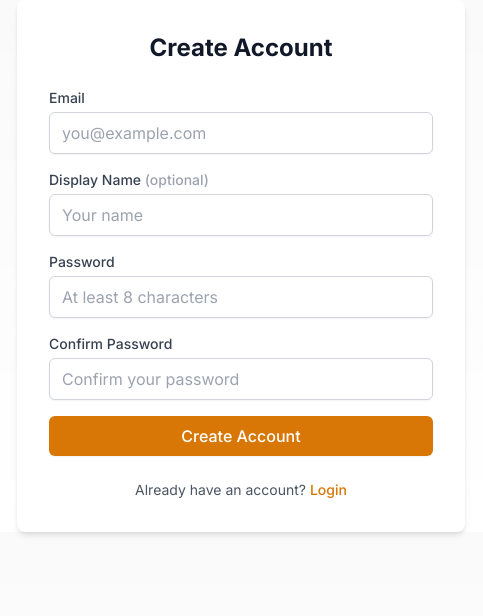
Test: RegisterPage › Validation › shows error when passwords do not match
This screenshot has width=483, height=616.
Type "new@example.com" into the field labelled "Email". click: coordinates (241, 133)
box: [49, 112, 433, 154]
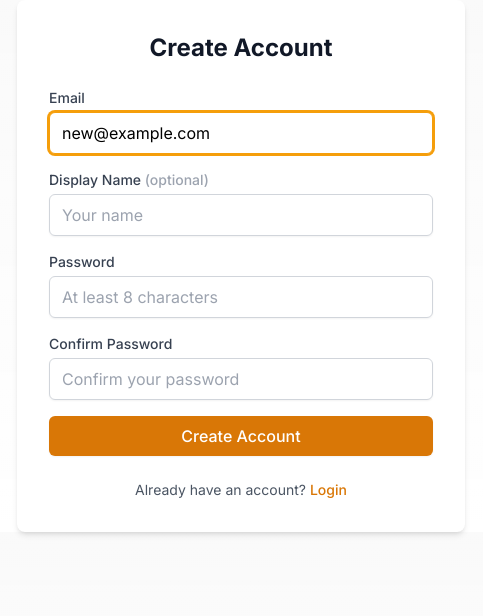
Type "password123" into the password field labelled "Password". click: coordinates (241, 297)
box: [49, 276, 433, 318]
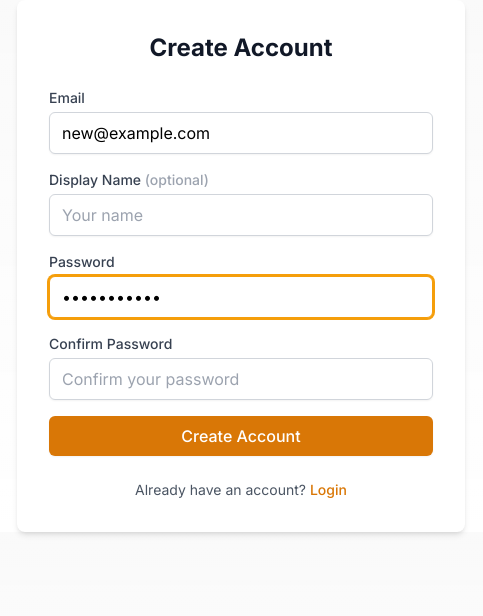
Type "differentpassword" into the password field labelled "Confirm Password". click: coordinates (241, 379)
box: [49, 358, 433, 400]
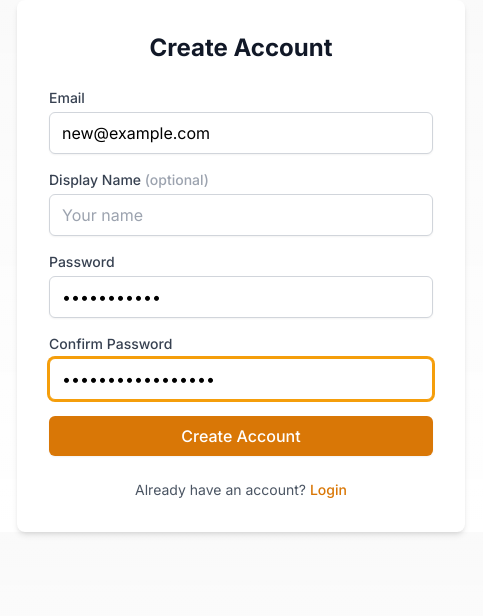
Click the button "Create Account". click: coordinates (241, 436)
box: [49, 416, 433, 456]
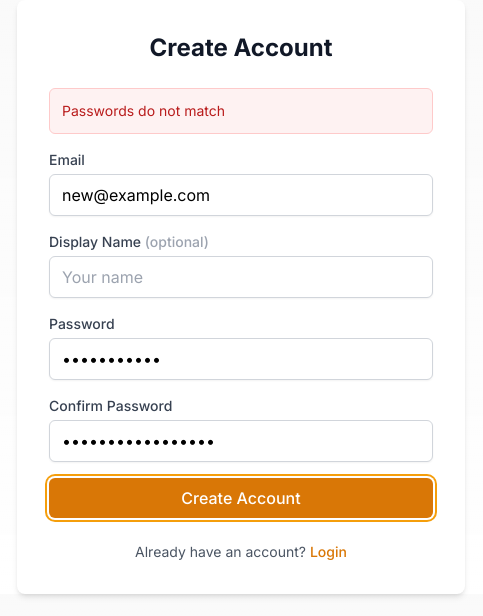
Expected: the text "Passwords do not match" is shown, [49, 88, 433, 134]
